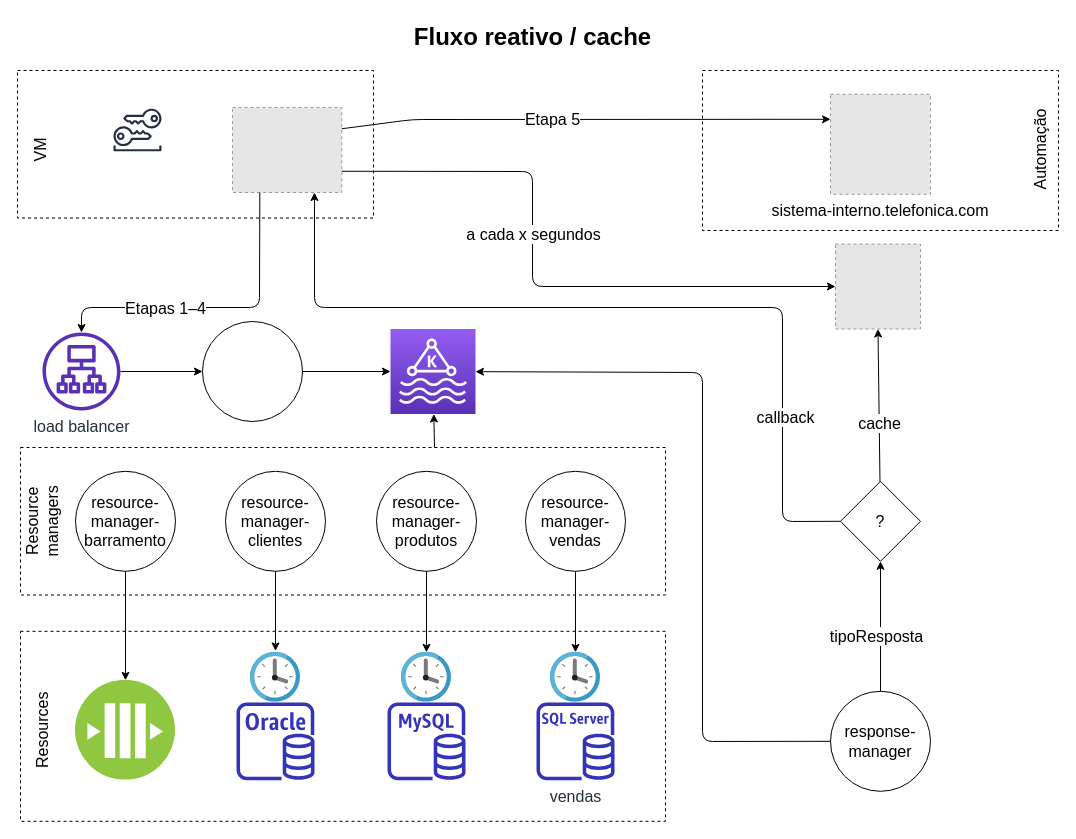
Some shapes in this 1076 by 839 pixel diagram are drawn without their labels. Grey dashed boxes stand in for pictures. The box of each missing label's shape, as (x1, y1, x2, y2) in pixels:
barramento: (75, 680, 175, 780)
clientes: (236, 702, 314, 780)
credenciais sistema interno: (106, 99, 168, 160)
produtos: (387, 702, 465, 780)
request-manager: (202, 320, 302, 422)
